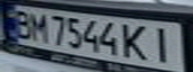4: (96, 19, 121, 56), (78, 17, 103, 53)
5: (63, 16, 84, 51)
7: (45, 12, 69, 47)
B: (9, 7, 36, 39)
I: (148, 24, 181, 64)
K: (121, 20, 151, 62)
M: (24, 10, 51, 43)
